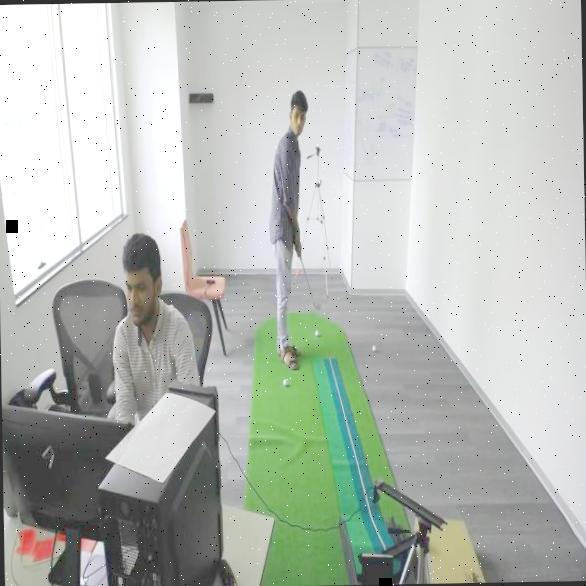ClubHead: (310, 291, 322, 314)
GolfBall: (278, 376, 292, 389), (311, 328, 321, 340), (370, 342, 378, 354)
